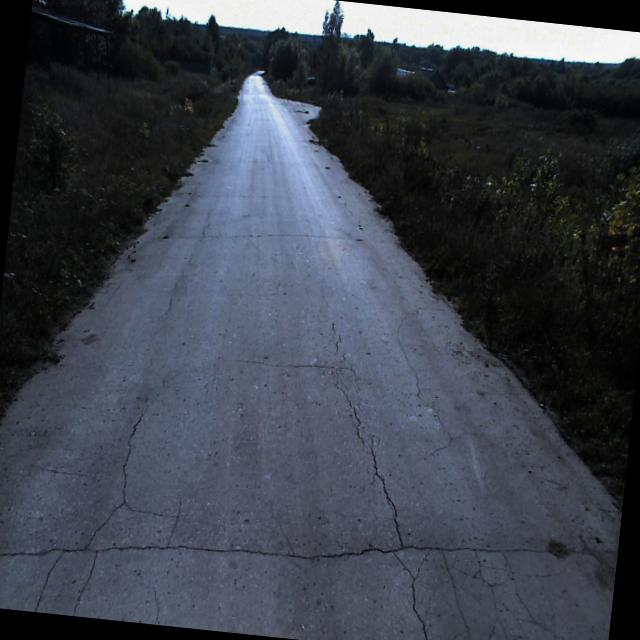road: (0, 69, 621, 640)
